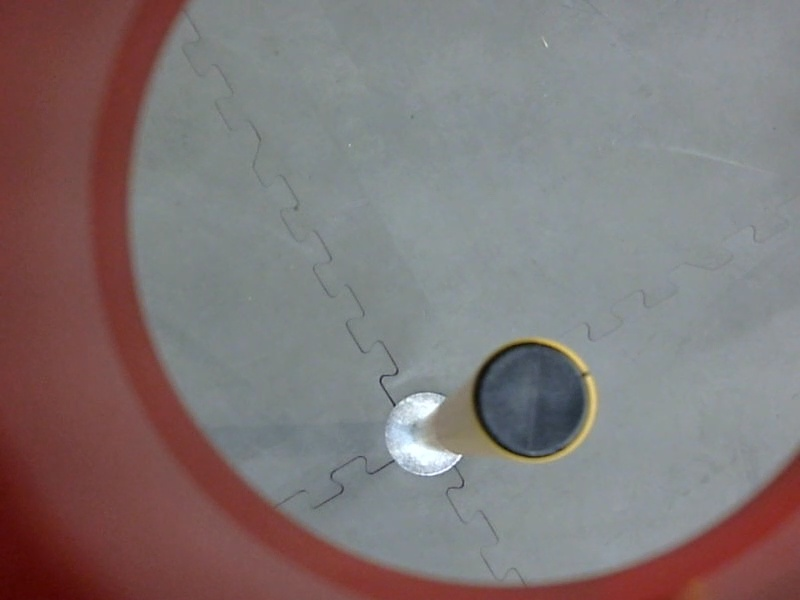tip: (456, 330, 607, 476)
